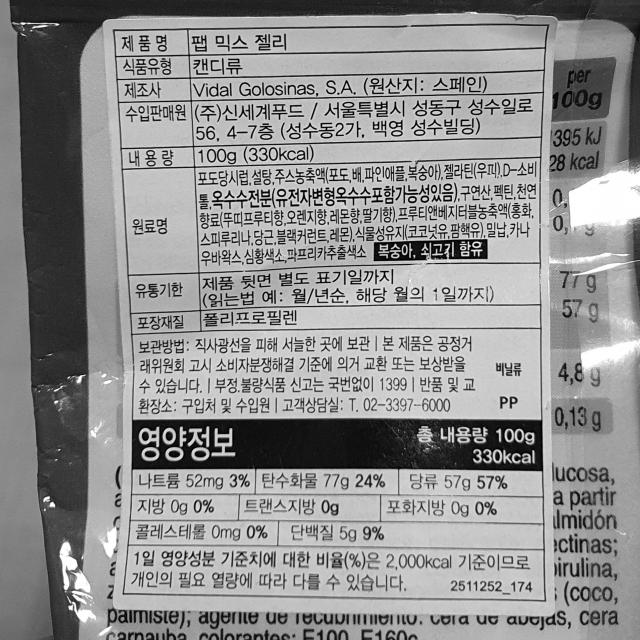Nutrition Label: (126, 416, 552, 613)
